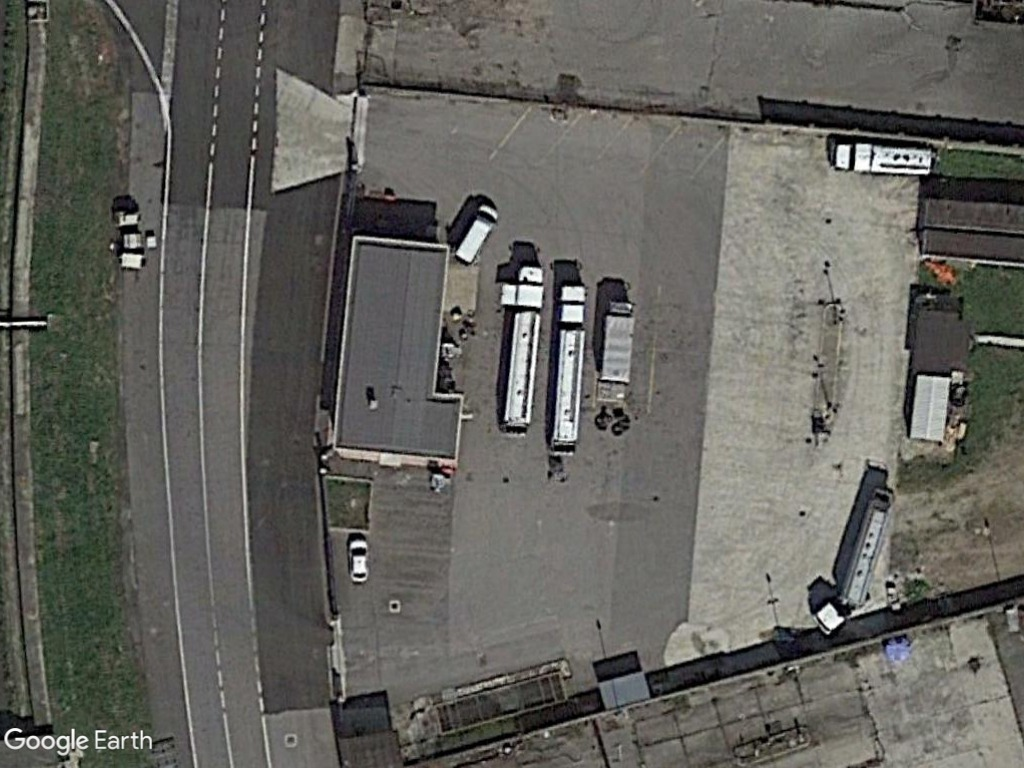car: (345, 534, 373, 587)
longvehicle: (495, 260, 549, 437), (835, 483, 900, 609), (546, 281, 589, 456)
truck: (827, 138, 938, 179)
van: (454, 199, 501, 268)
